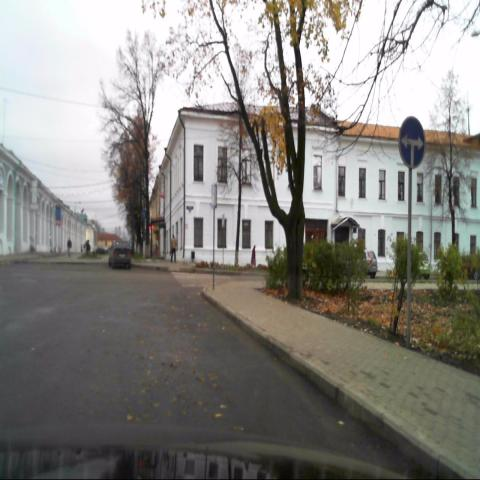4_1_6: (398, 114, 426, 169)
